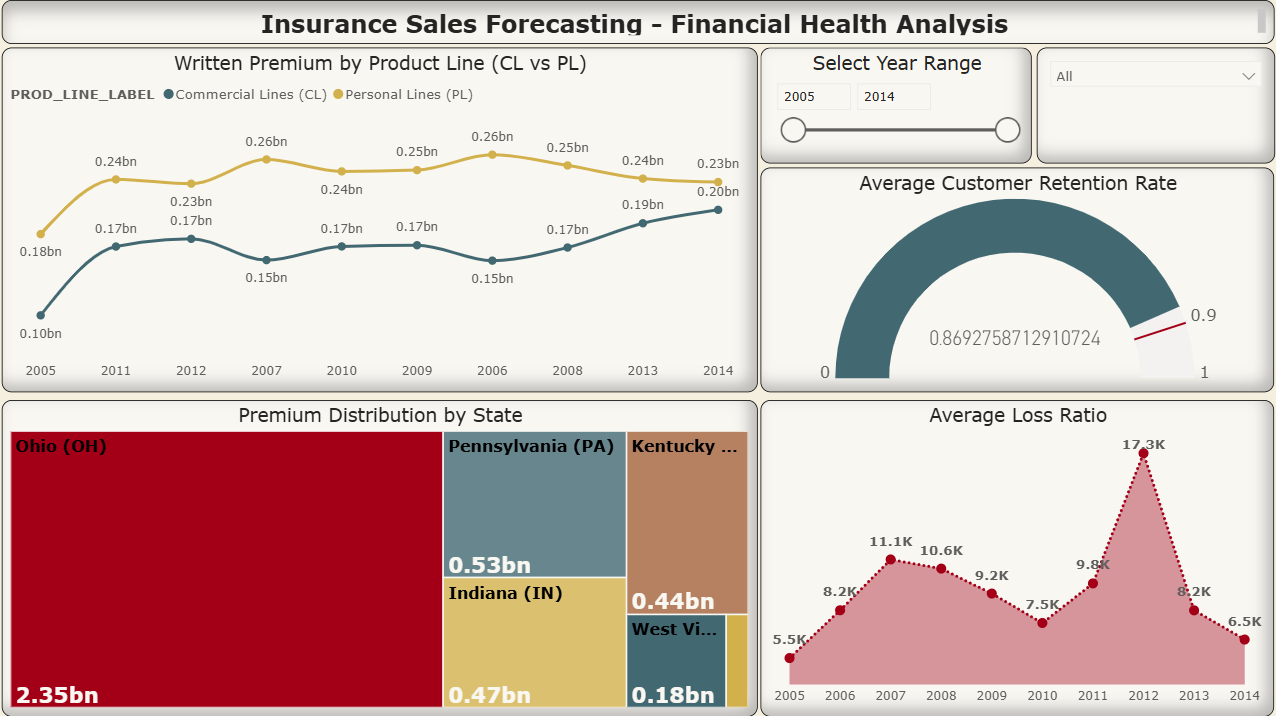

The dashboard page shown, as its layout file describes it:
{"tool":"powerbi","page":{"name":"Financial Health Dashboard","canvas":[1280,720],"ordinal":1},"visuals":[{"type":"lineChart","title":"Written Premium by Product Line (CL vs PL)","fields":{"Category":["insurance_cleaned.STAT_PROFILE_DATE_YEAR"],"Y":["Sum(insurance_cleaned.WRTN_PREM_AMT)"],"Series":["insurance_cleaned.PROD_LINE_LABEL"]},"box":[3.9,51.4,755.8,344.5],"z":0},{"type":"gauge","title":"Average Customer Retention Rate","fields":{"Y":["Avg(insurance_cleaned.RETENTION_RATIO)"]},"box":[767.9,171.2,507.5,225],"z":1000},{"type":"slicer","title":"Select Year Range","fields":{"Values":["insurance_cleaned.STAT_PROFILE_DATE_YEAR"]},"box":[766.7,51.4,271.5,111.3],"z":2000},{"type":"slicer","fields":{"Values":["insurance_cleaned.PROD_LINE_LABEL"]},"box":[1045.5,51.4,229.9,111.3],"z":3000},{"type":"textbox","box":[0,0,1280,44.3],"z":4000},{"type":"treemap","title":"Premium Distribution by State","fields":{"Group":["insurance_cleaned.STATE_LABEL"],"Values":["Sum(insurance_cleaned.WRTN_PREM_AMT)"]},"box":[3.9,401,755.8,318.8],"z":5000},{"type":"lineChart","title":"Average Loss Ratio","fields":{"Category":["insurance_cleaned.STAT_PROFILE_DATE_YEAR Hierarchy.STAT_PROFILE_DATE_YEAR"],"Y":["Sum(insurance_cleaned.LOSS_RATIO)"]},"box":[767.4,401,507.7,318.8],"z":6000}]}

Visuals, with their boxes in screenshot pixels (x1, y1, x2, y2), scaled from the page's 1280x720 canvas onto the 1276x716 screenshot:
"Written Premium by Product Line (CL vs PL)" lineChart: (x1=4, y1=51, x2=757, y2=394)
"Average Customer Retention Rate" gauge: (x1=766, y1=170, x2=1271, y2=394)
"Select Year Range" slicer: (x1=764, y1=51, x2=1035, y2=162)
slicer - insurance_cleaned.PROD_LINE_LABEL: (x1=1042, y1=51, x2=1271, y2=162)
textbox: (x1=0, y1=0, x2=1275, y2=44)
"Premium Distribution by State" treemap: (x1=4, y1=399, x2=757, y2=715)
"Average Loss Ratio" lineChart: (x1=765, y1=399, x2=1271, y2=715)
